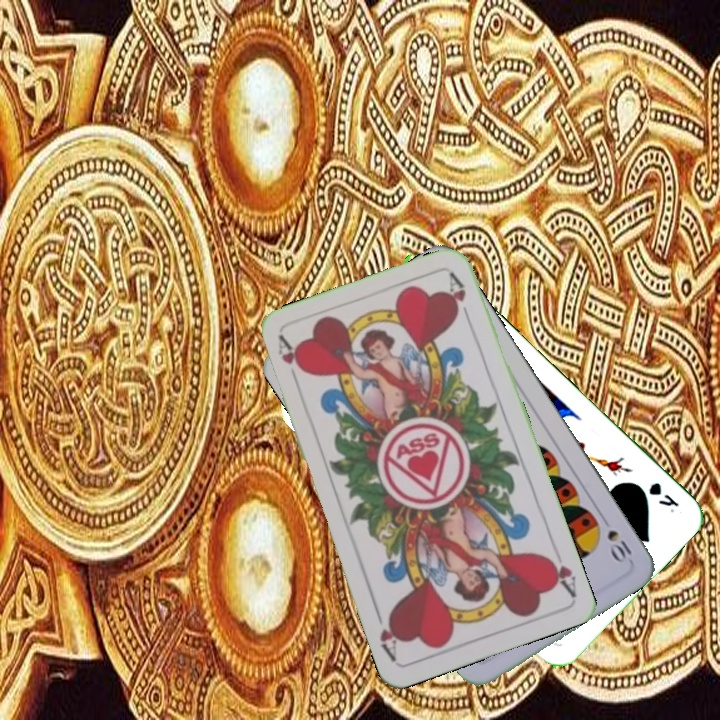GK: (644, 478, 682, 516)
HA: (541, 542, 579, 599), (273, 332, 306, 390)
S10: (603, 525, 635, 566)
